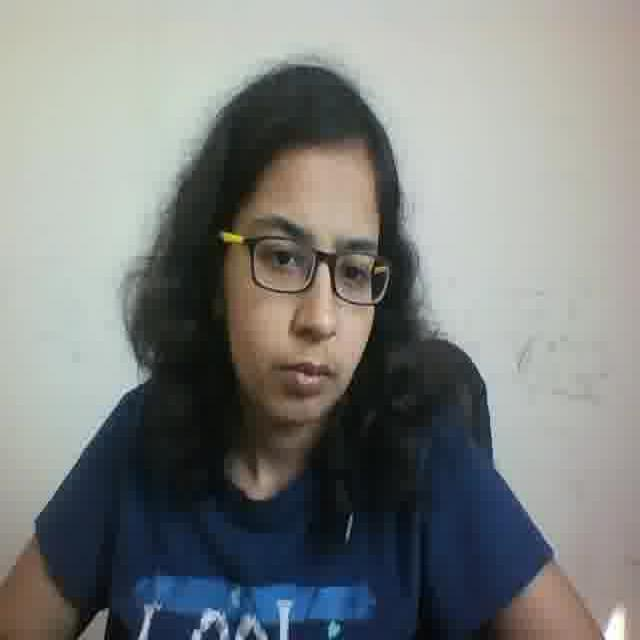Boredom: (226, 157, 380, 432)
